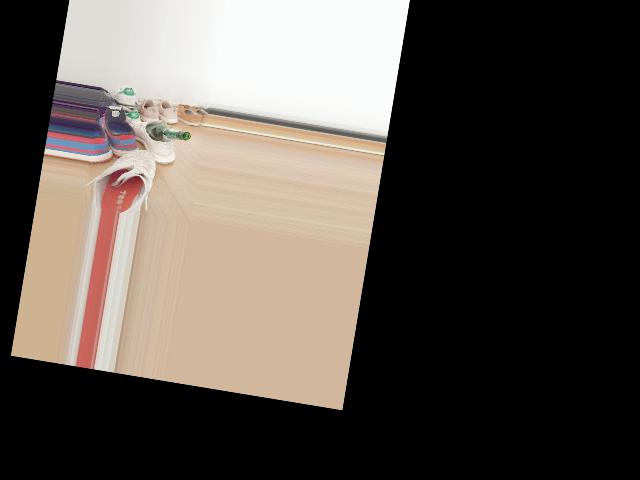beer: (144, 122, 192, 146)
